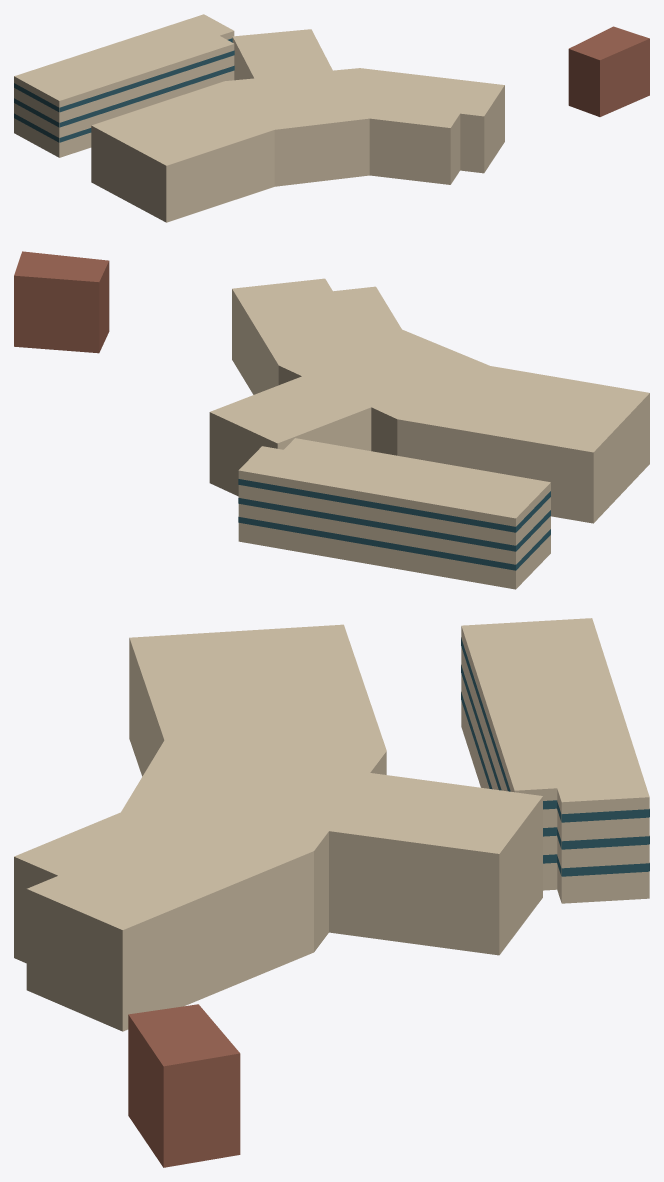
File: city_1_6.glb
3 views of the same model, one above another, from view 1: azimuth 30°, elevation 25°; view 2: azimuth 150°, elevation 25°; view 3: azimuth 270°, elevation 25° (orthographic). The views are drawn at different scales.
Visible parts, largest first — view 1: city_1_6; view 2: city_1_6; view 3: city_1_6.
Part boxes in pixels (x1,y1,x2,y2): city_1_6: [14, 14, 649, 222]; city_1_6: [14, 251, 649, 589]; city_1_6: [14, 618, 649, 1167].
Bounding box in the file's own units: 142 × 15 × 85.23.
